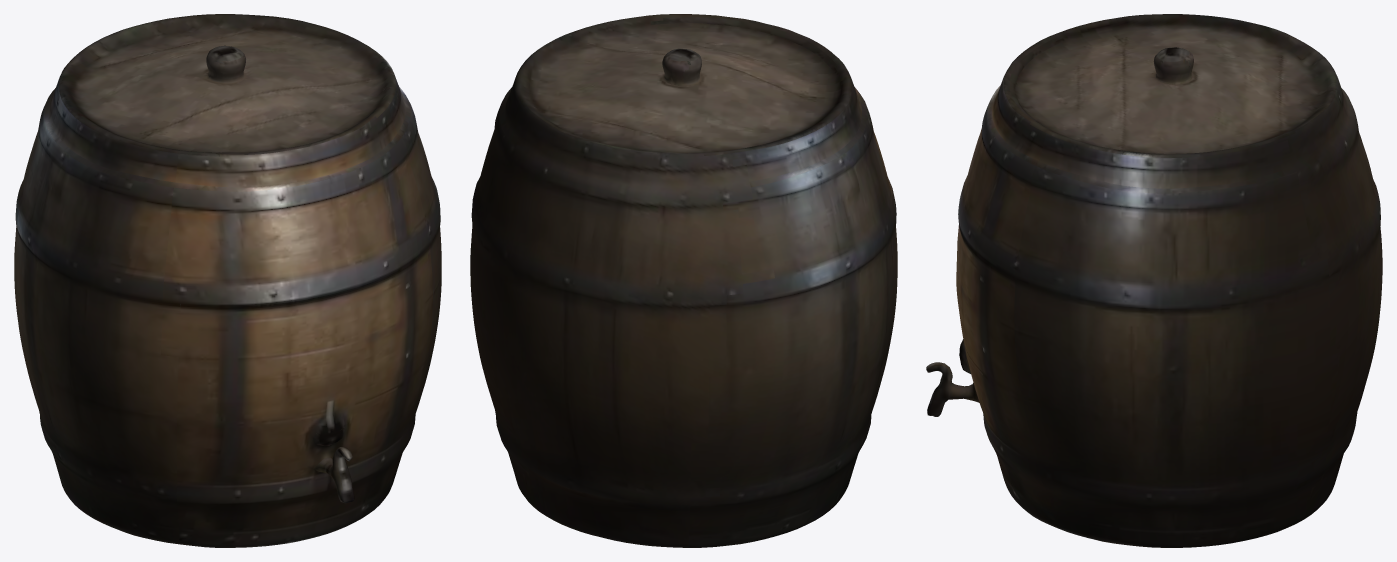
File: barrel2.glb
The picture shows the model from 3 angles, left to right: view 1: azimuth 30°, elevation 25°; view 2: azimuth 150°, elevation 25°; view 3: azimuth 270°, elevation 25°; orthographic projection.
Size of the model in its own units: 1.81 by 2 by 1.93.
Materials: 1 (1 with a texture image).
